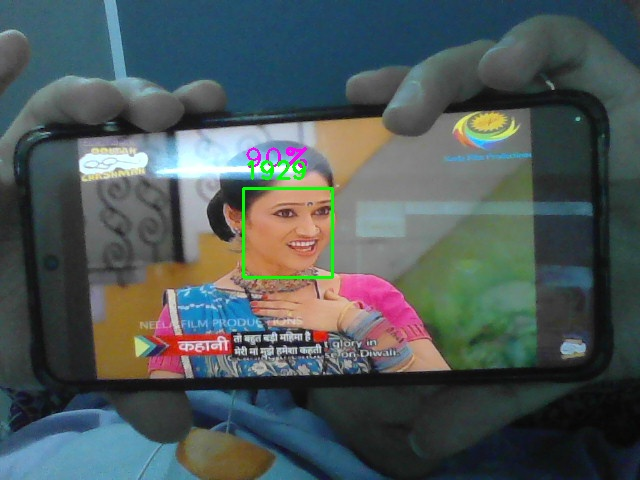fake: (243, 188, 333, 278)
